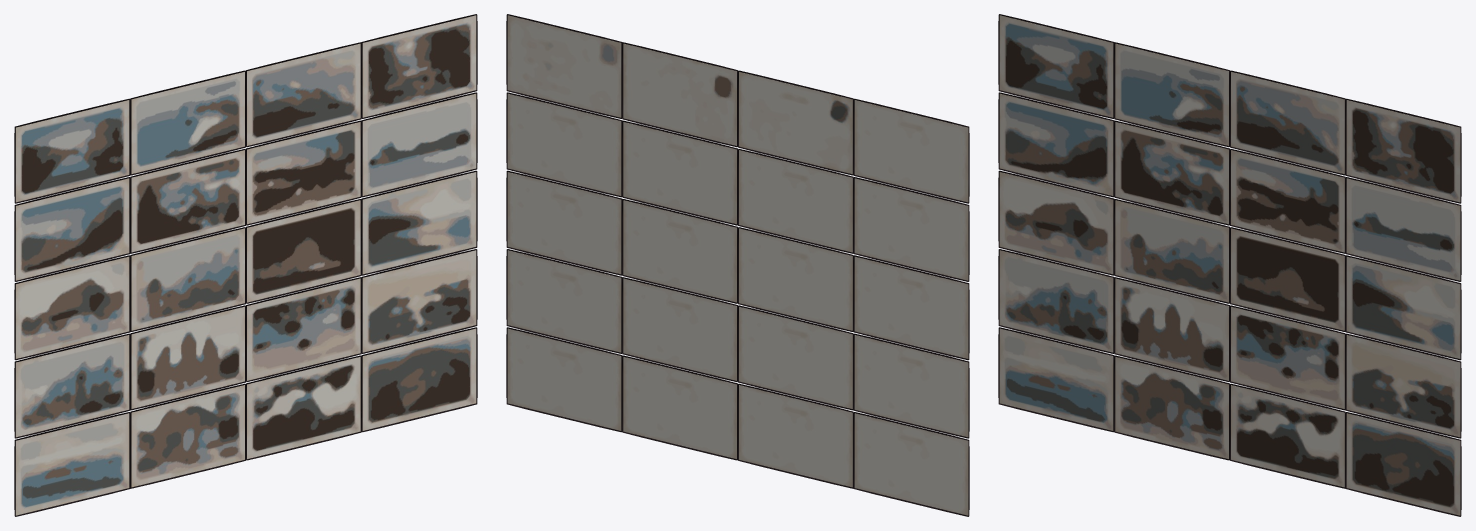
The model's file is SM_Int_Postcards.fbx.
3 renders of one model, left to right at view 1: azimuth 30°, elevation 25°; view 2: azimuth 150°, elevation 25°; view 3: azimuth 330°, elevation 25°, orthographic.
Visible parts, largest first — view 1: SM_Int_Postcards; view 2: SM_Int_Postcards; view 3: SM_Int_Postcards.
Boxes of the visible parts, left/top/right/bottom form: SM_Int_Postcards: left=14, top=14, right=477, bottom=516; SM_Int_Postcards: left=506, top=14, right=969, bottom=516; SM_Int_Postcards: left=998, top=14, right=1461, bottom=516.
Bounding box in the file's own units: 0.6795 × 0.5478 × 0.00414.
